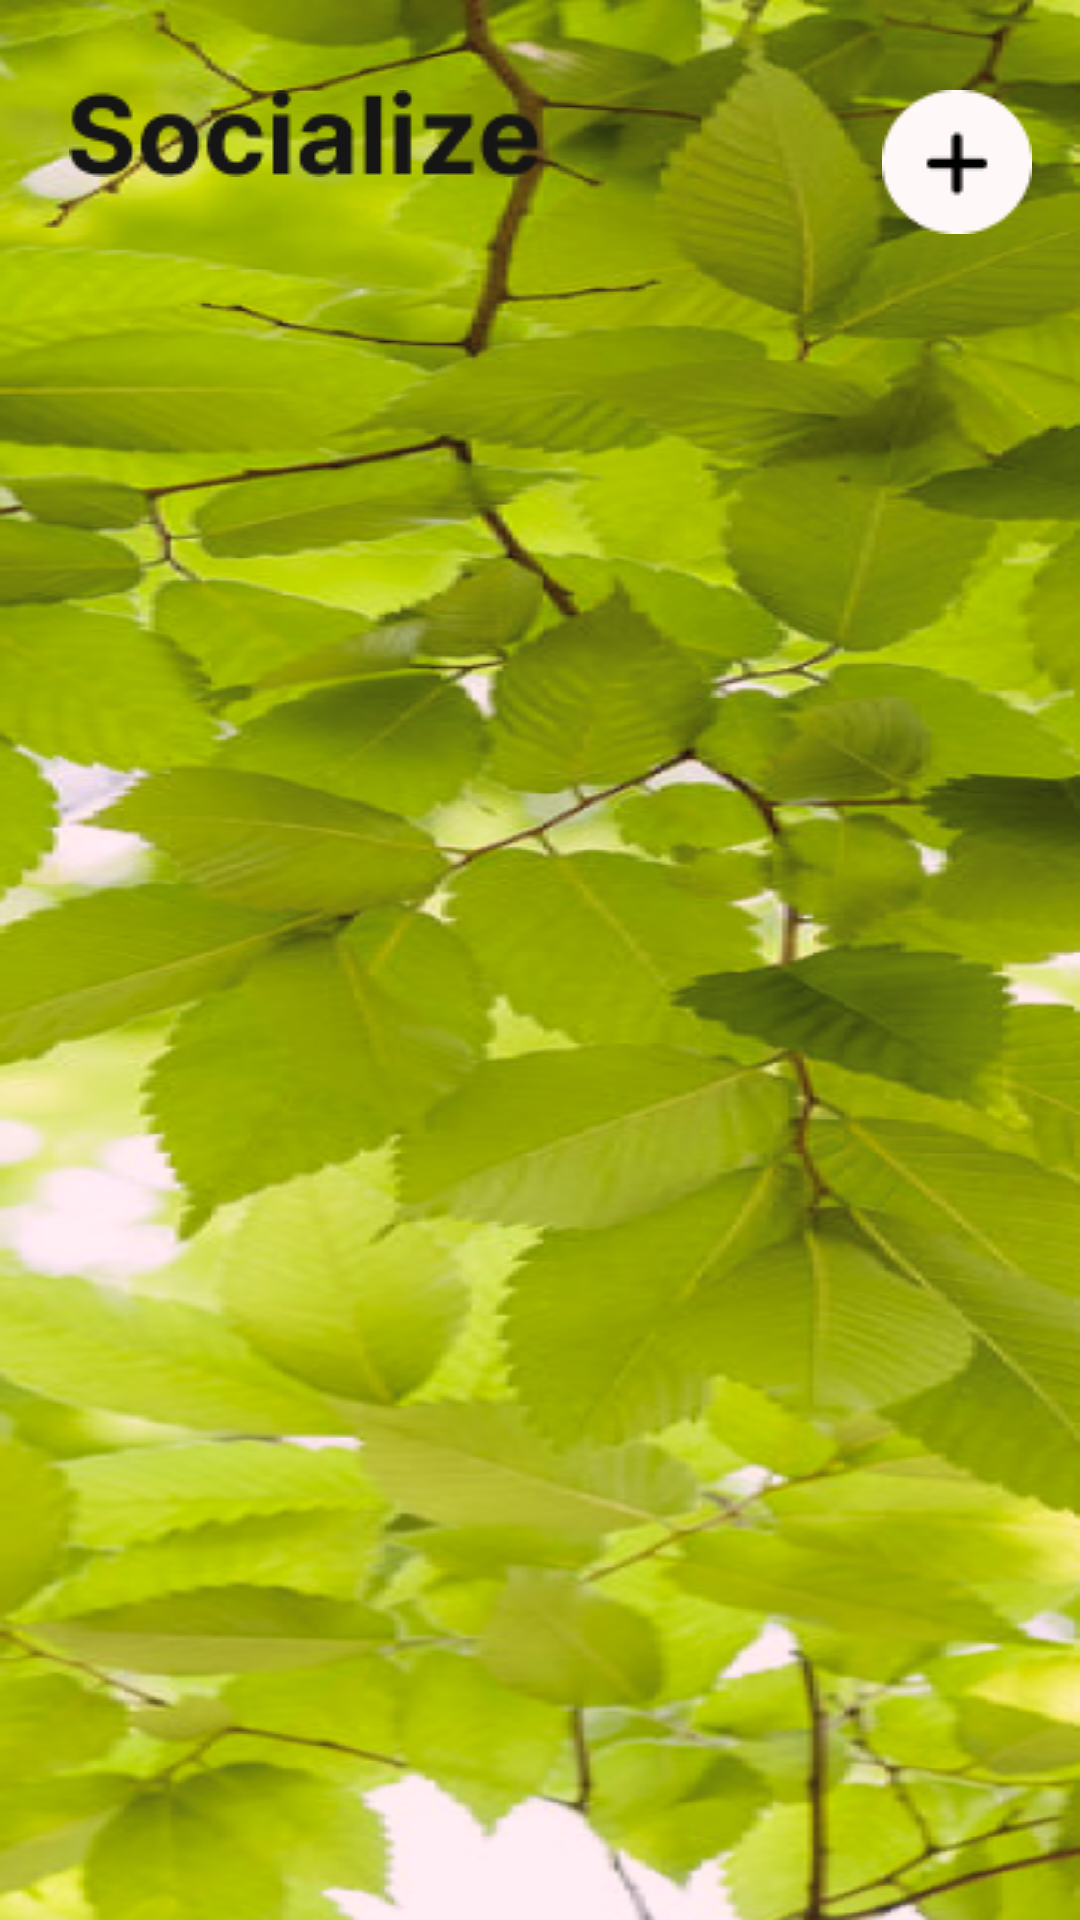

Named icons in this screenshot (1080px x 1920px) and their centers, [x,y]:
addpost: [957,162]
